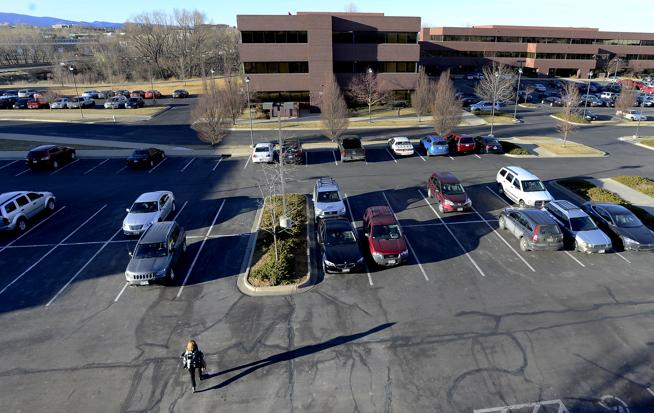car: (123, 219, 193, 289), (540, 198, 612, 257), (581, 199, 654, 254), (493, 205, 566, 255), (364, 201, 408, 274), (492, 157, 552, 209), (120, 187, 177, 237), (312, 217, 357, 275), (20, 136, 82, 177), (1, 186, 55, 231), (421, 166, 469, 212), (307, 175, 341, 219), (329, 132, 373, 164), (129, 144, 166, 171), (277, 135, 307, 168), (443, 129, 475, 158), (248, 139, 276, 169), (419, 130, 448, 157), (384, 135, 418, 158), (473, 132, 502, 156)
